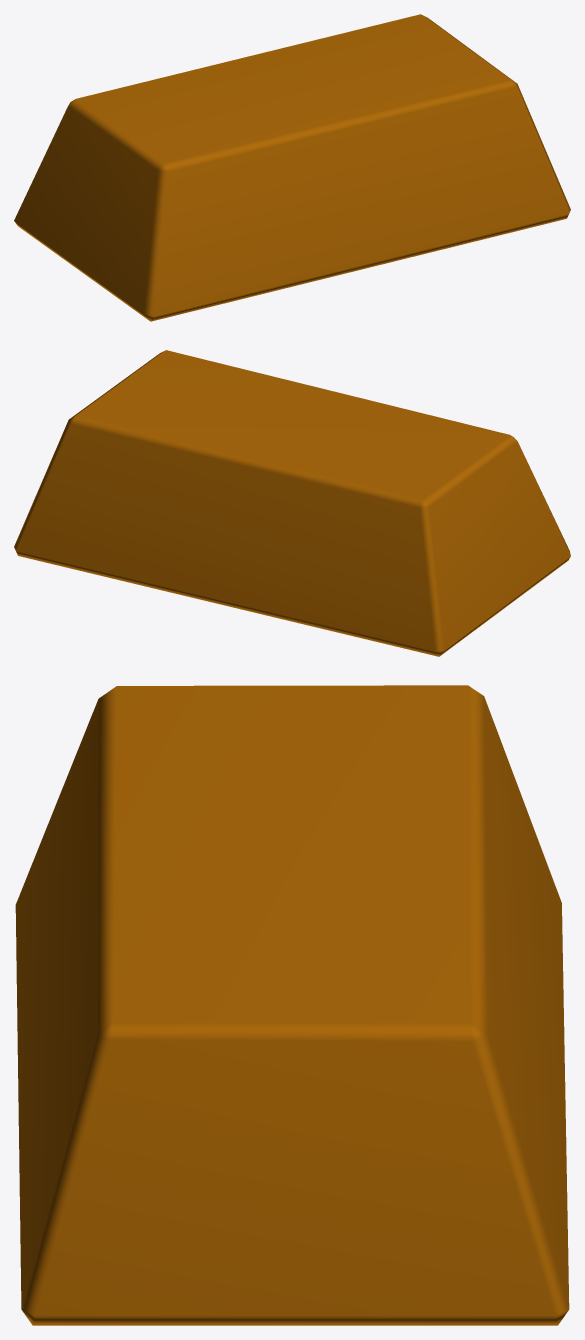
Rendered from Mod_steelBar_LODs.fbx.
3 views of the same model, one above another, from view 1: azimuth 30°, elevation 25°; view 2: azimuth 150°, elevation 25°; view 3: azimuth 270°, elevation 25° (orthographic). The views are drawn at different scales.
Parts seen in each view (by area): view 1: steelBar_LOD0; view 2: steelBar_LOD0; view 3: steelBar_LOD0.
Boxes of the visible parts, x1,y1,x2,y2 form: steelBar_LOD0: (14,14,570,321); steelBar_LOD0: (14,350,570,656); steelBar_LOD0: (15,685,569,1325).
Bounding box in the file's own units: 31.91 × 9.49 × 17.83.
